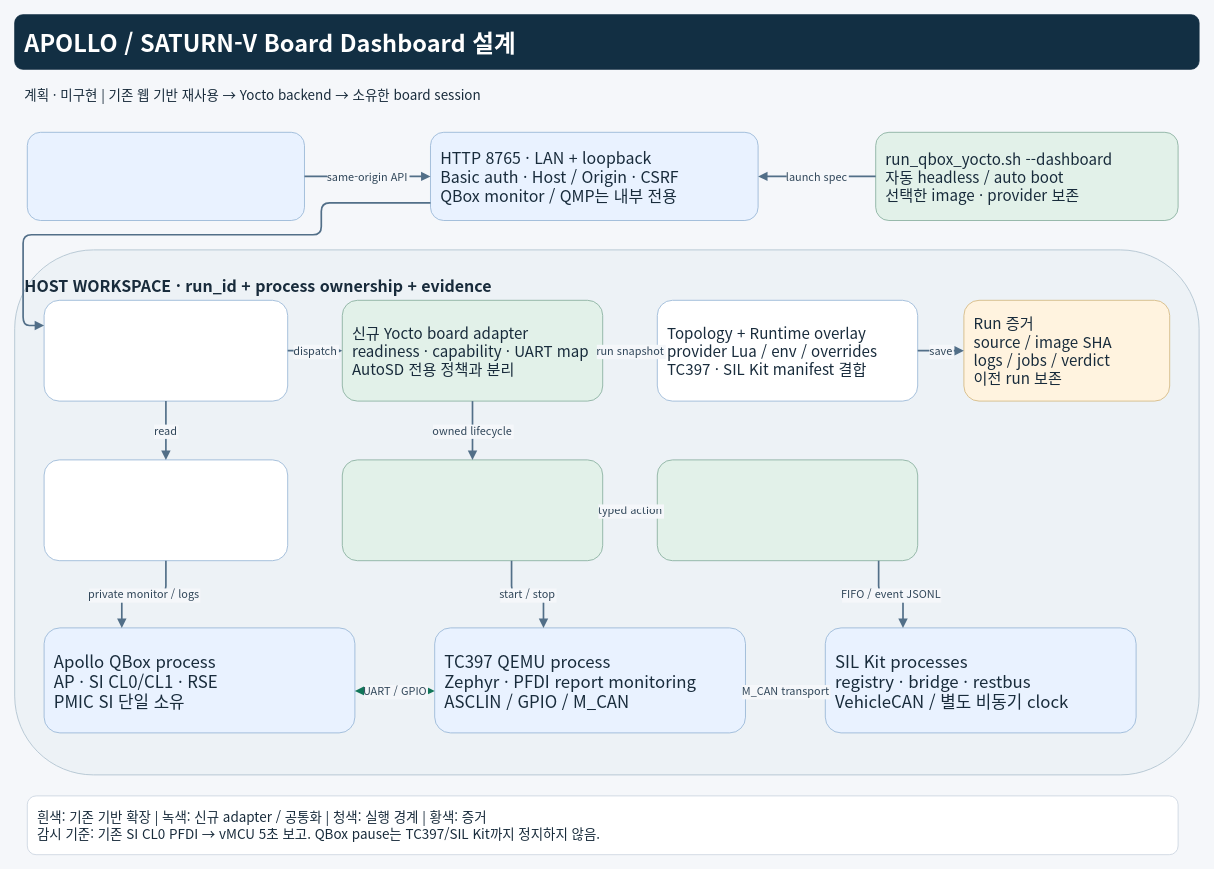
The diagram is 1214 pixels wide and 869 high, and some of its shapes have lost their labels. The centre of each missing label's shape, as x and y in pixels:
"Typed vMCU / CAN adapter 단일 writer · epoch / cookie 요청 receipt ≠ 동작 완료" goes at pixel 787 510.
"공통 Board supervisor QBox / TC397 / SIL Kit 소유 foreground · FIFO · cleanup" goes at pixel 472 510.
"공통 Web / Job service 기존 server.py 확장 인증 · typed job · artifact" goes at pixel 165 350.
"기존 관측 adapter Monitor / QMP read-only UART tail · bounded cursor" goes at pixel 165 510.
"외부 Browser Board / Block · UART · Scenario · Control" goes at pixel 165 175.
